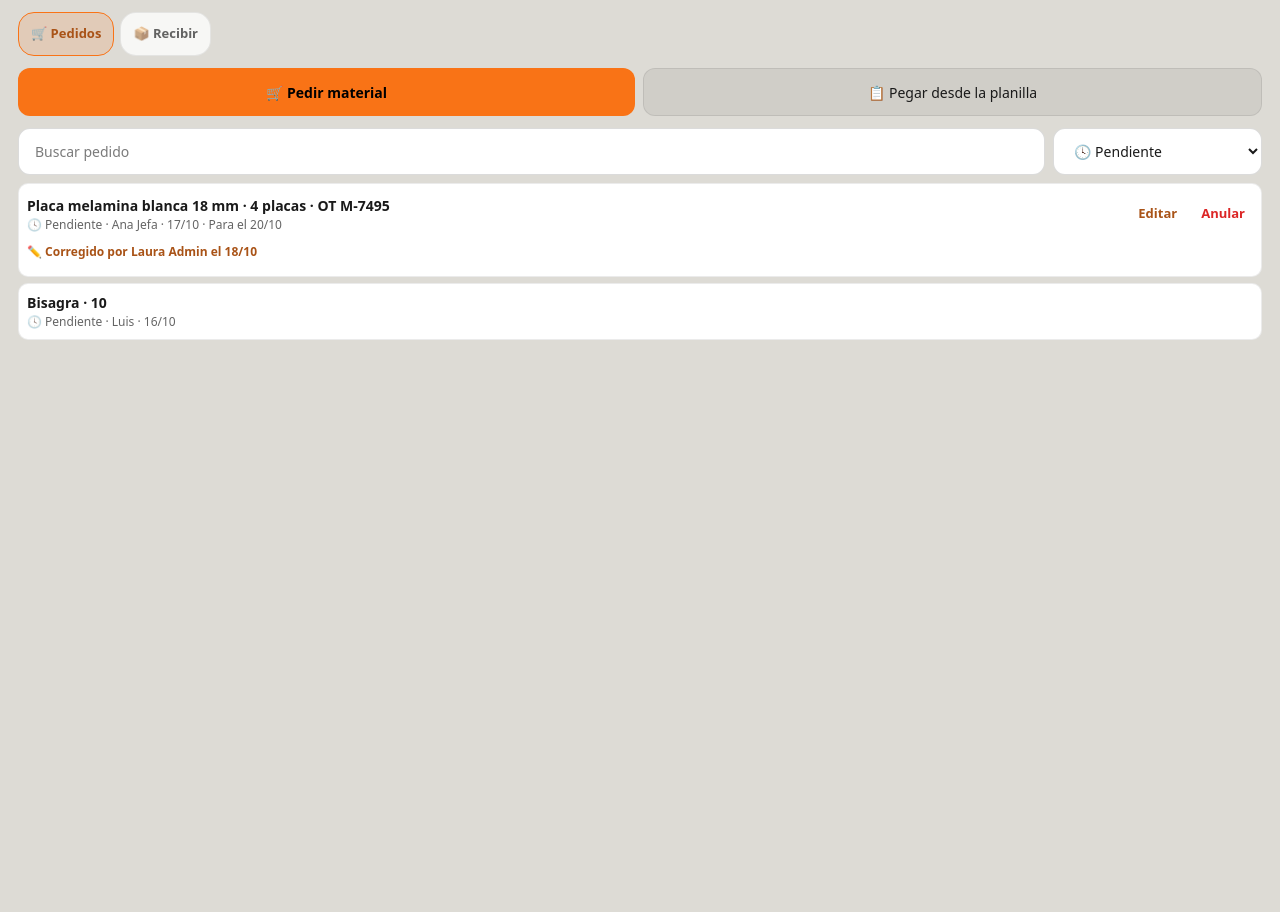
Test: compras — el jefe corrige su pedido y ve quién lo corrigió
Click the button "✏️ Corregido por Laura Admin el 18/10".
click(142, 252)  # box [27, 236, 257, 268]
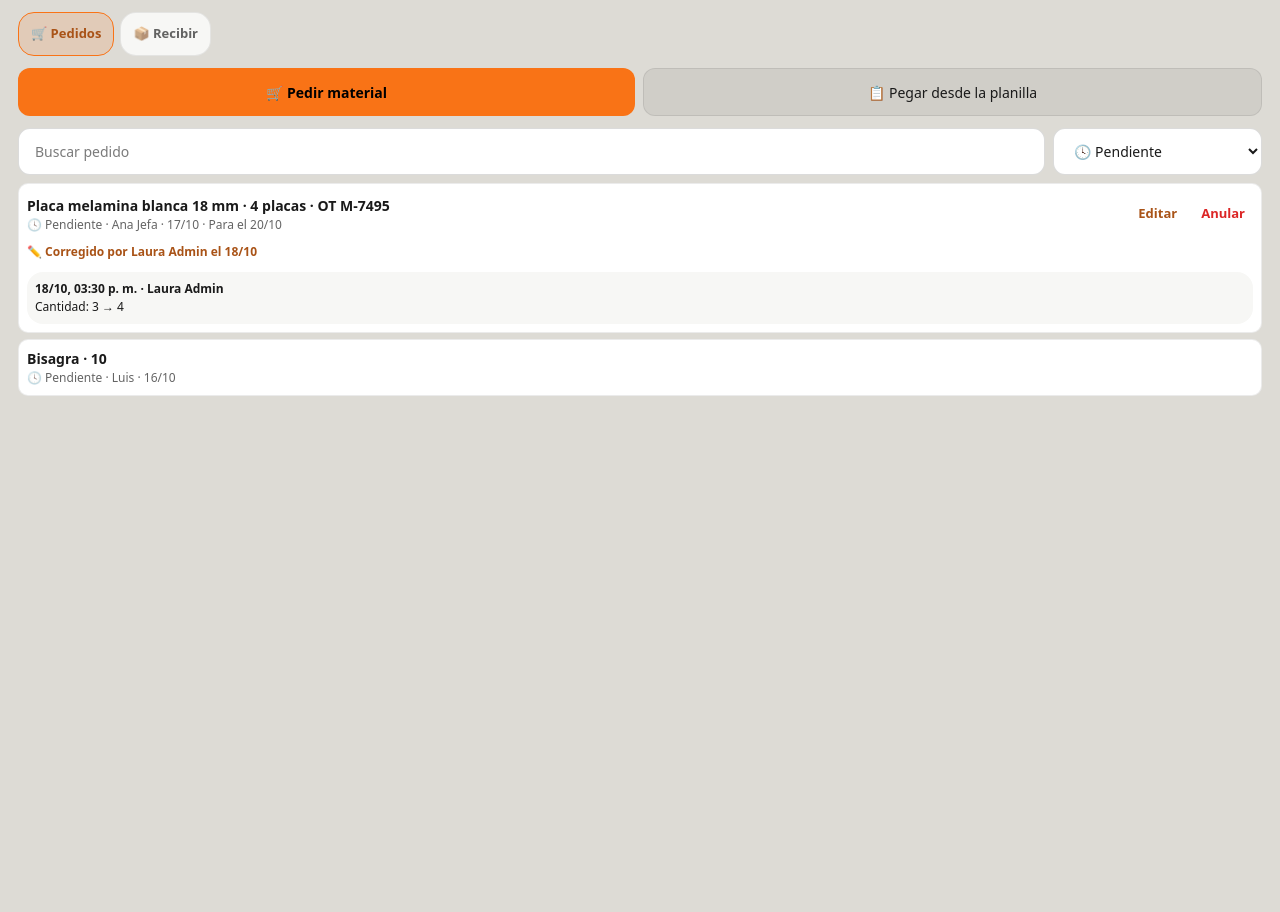
Result: the text "Cantidad: 3 → 4" is shown at [35, 298, 124, 315]
Click the button "Editar".
click(1158, 214)  # box [1130, 192, 1185, 236]
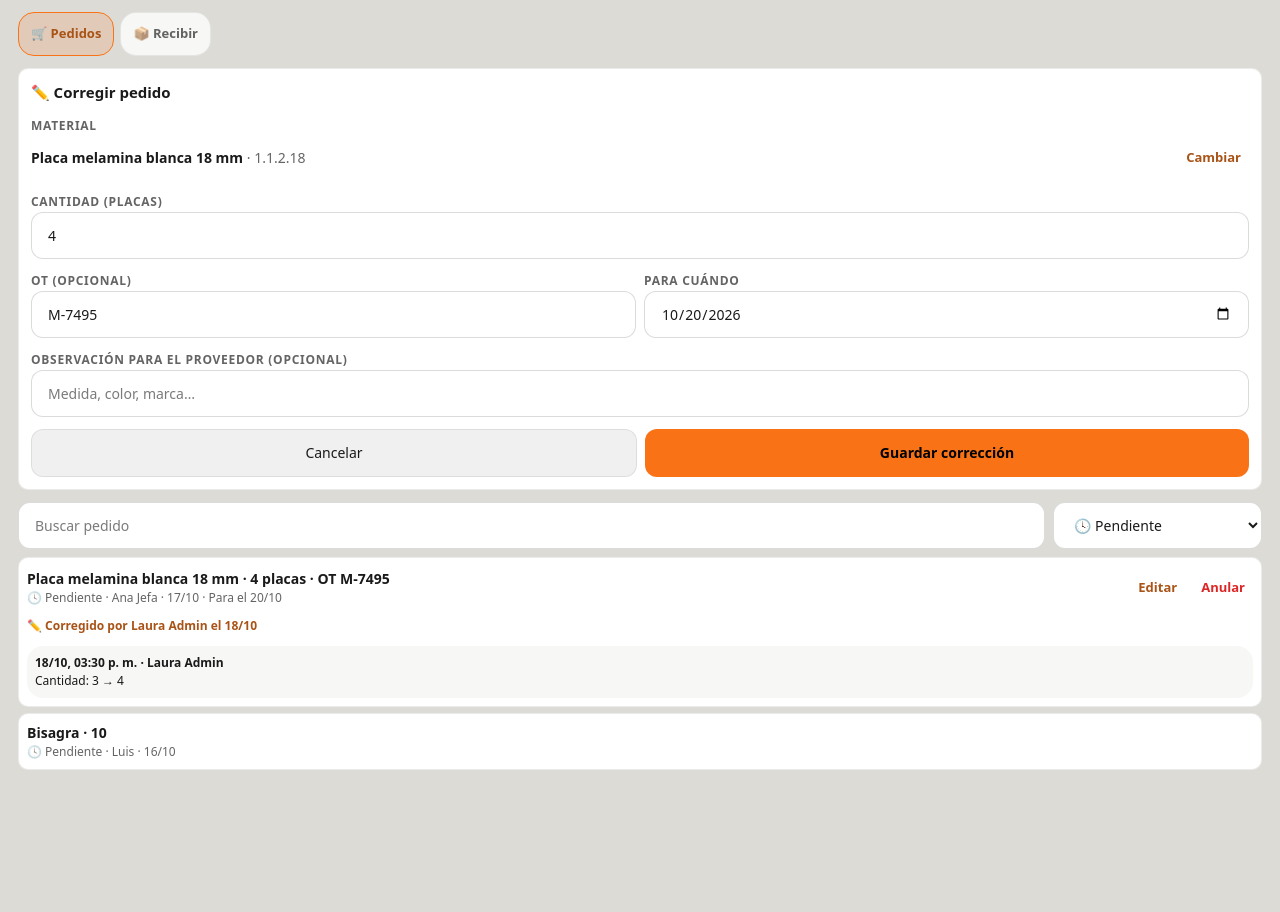
Result: the text "✏️ Corregir pedido" is shown at [31, 82, 171, 102]
Result: the button "🛒 Pedir material" is gone
Replace the text in the field labelled "Cantidad (placas)" with "6" at point(640, 235), box [31, 212, 1249, 258]
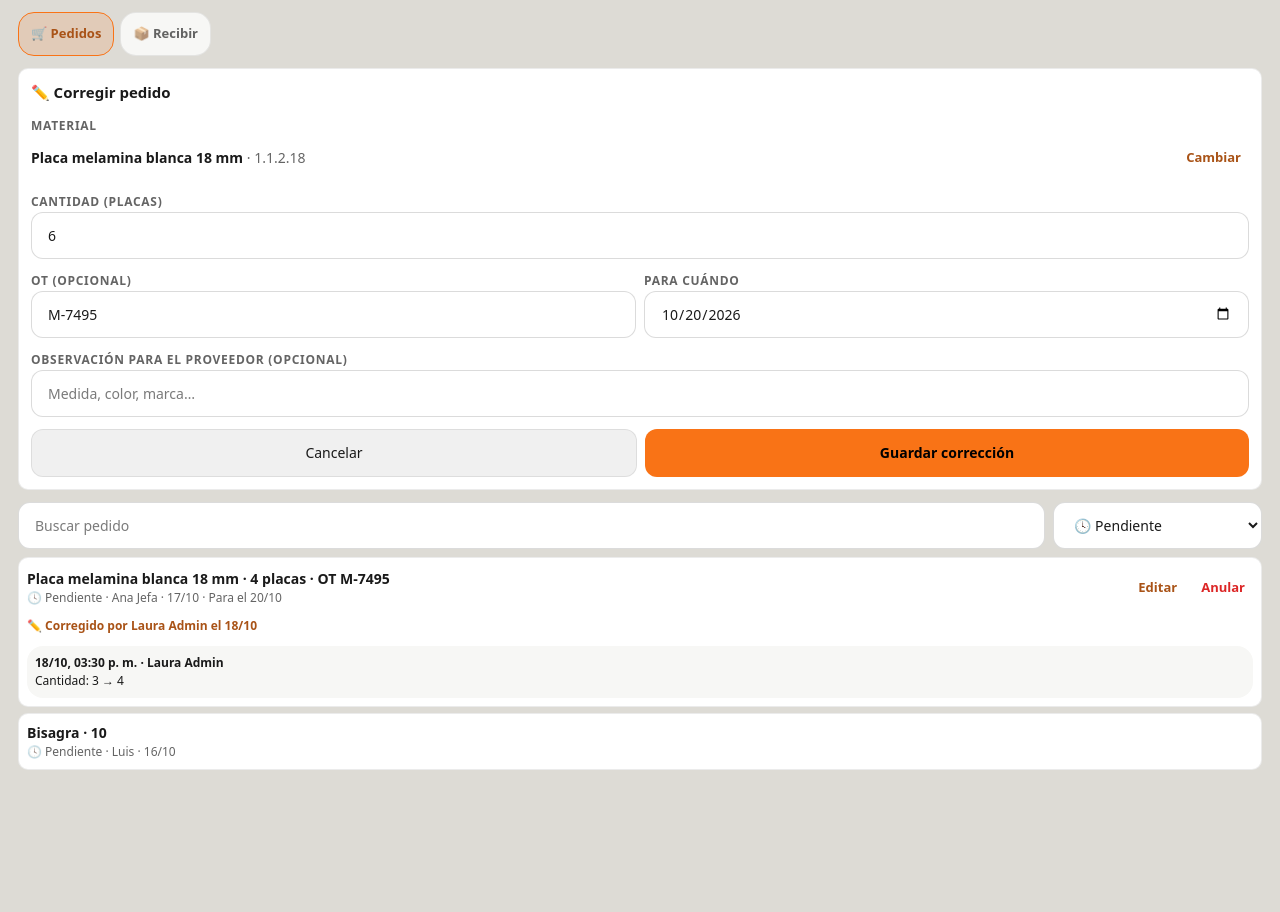
Type "Blanco" into the field labelled "Observación para el proveedor (opcional)".
click(640, 393); type("Blanco")  # box [31, 370, 1249, 416]
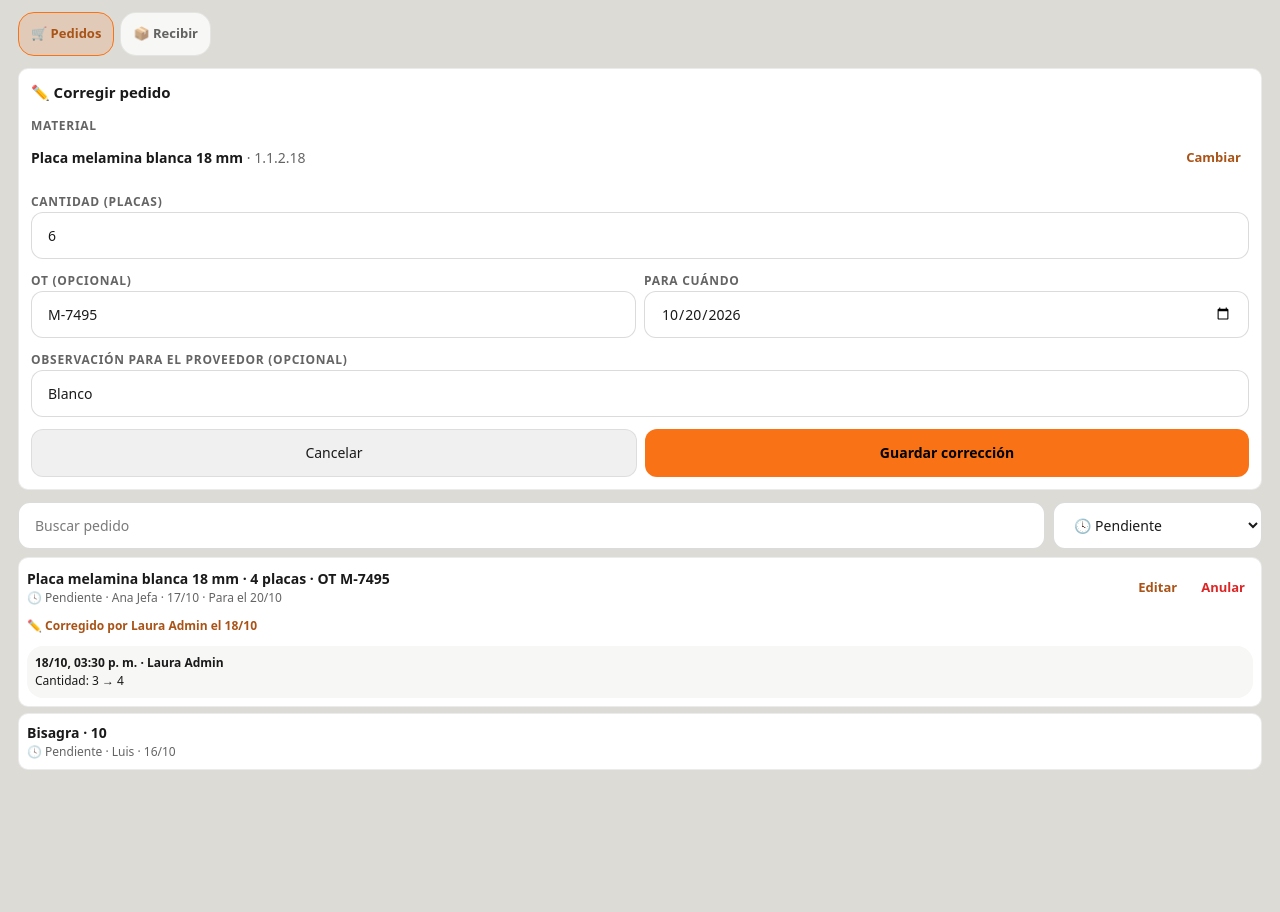
Click the button "Guardar corrección".
click(947, 452)  # box [645, 428, 1249, 476]
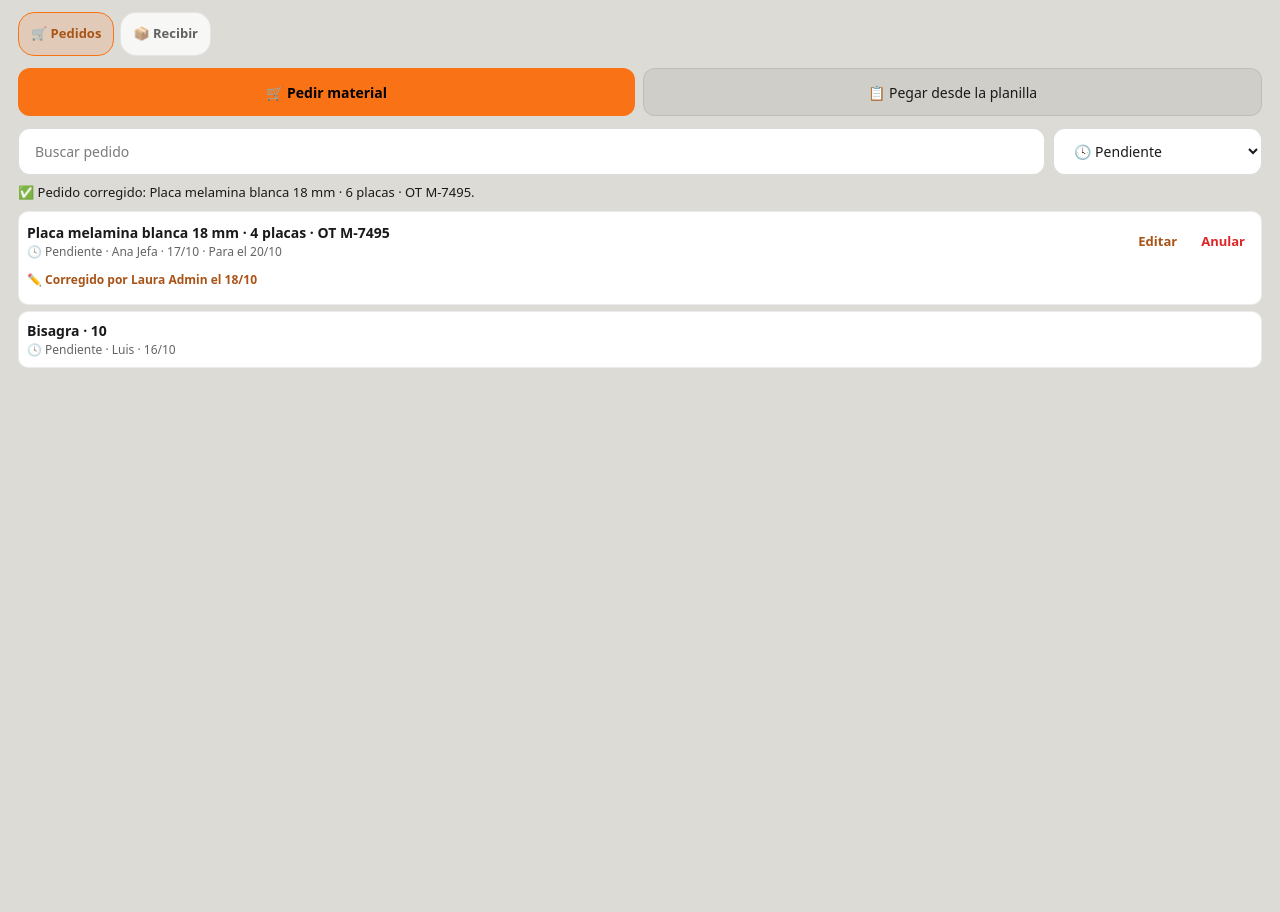
Result: the text "✅ Pedido corregido: Placa melamina blanca 18 mm · 6 placas · OT M-7495." is shown at [18, 183, 475, 201]
